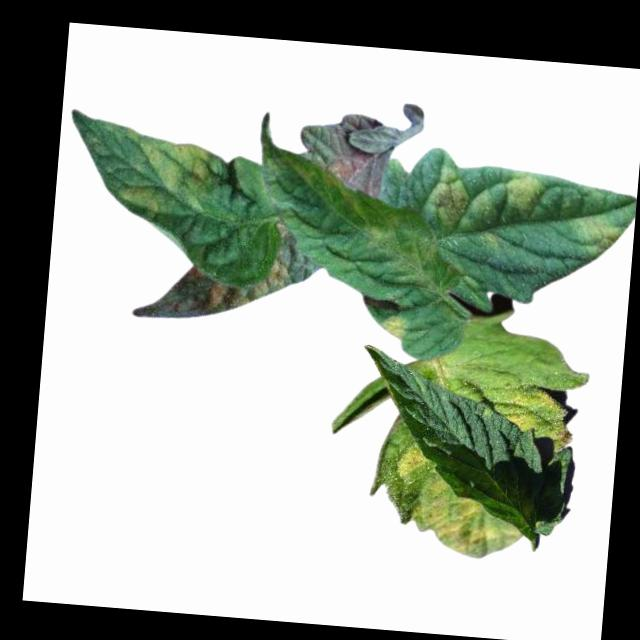Leaf_Mold: (128, 219, 323, 332), (389, 442, 529, 563), (114, 128, 221, 221), (294, 108, 397, 202), (506, 386, 580, 450), (427, 164, 481, 237), (500, 166, 550, 217), (578, 215, 628, 258), (382, 310, 411, 344)
